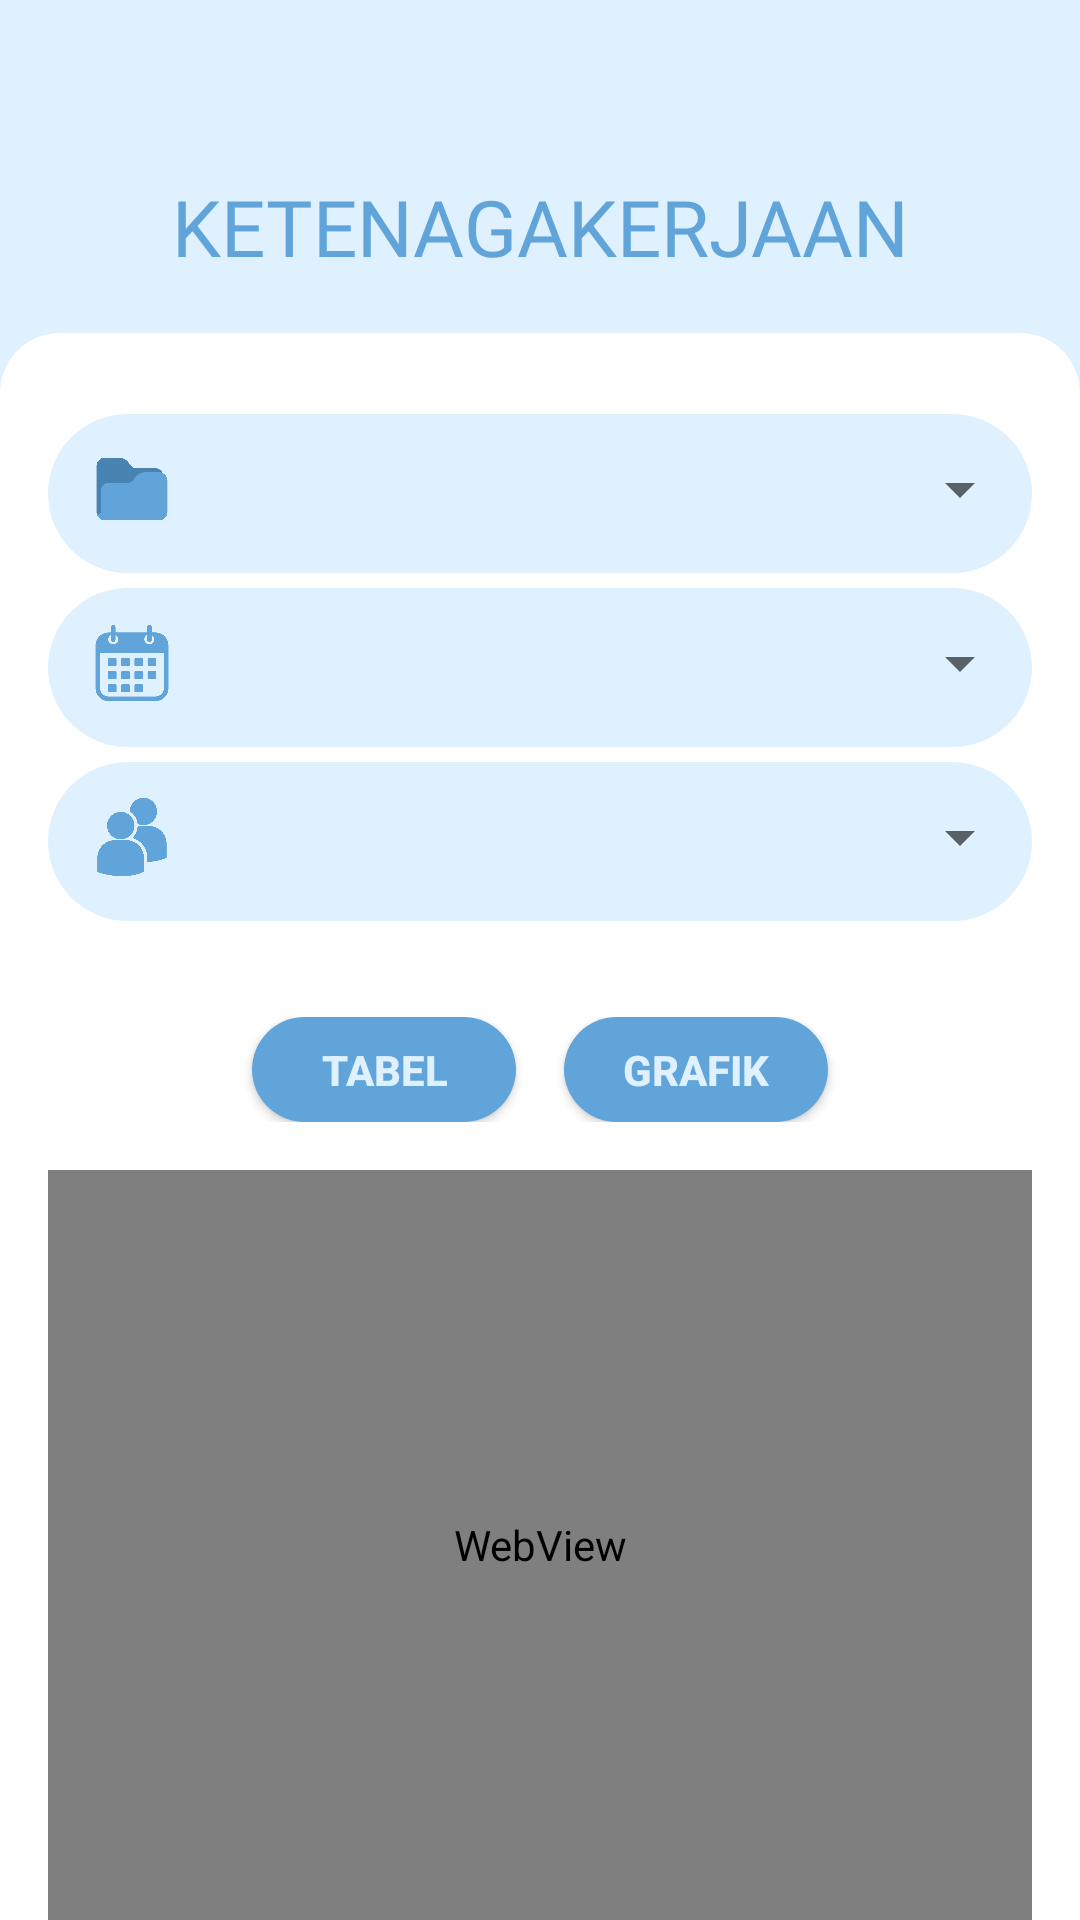

Where icons sit on this 1080x1920 app screen, as (x1, y1, x2, y2):
date: (95, 625, 169, 701)
